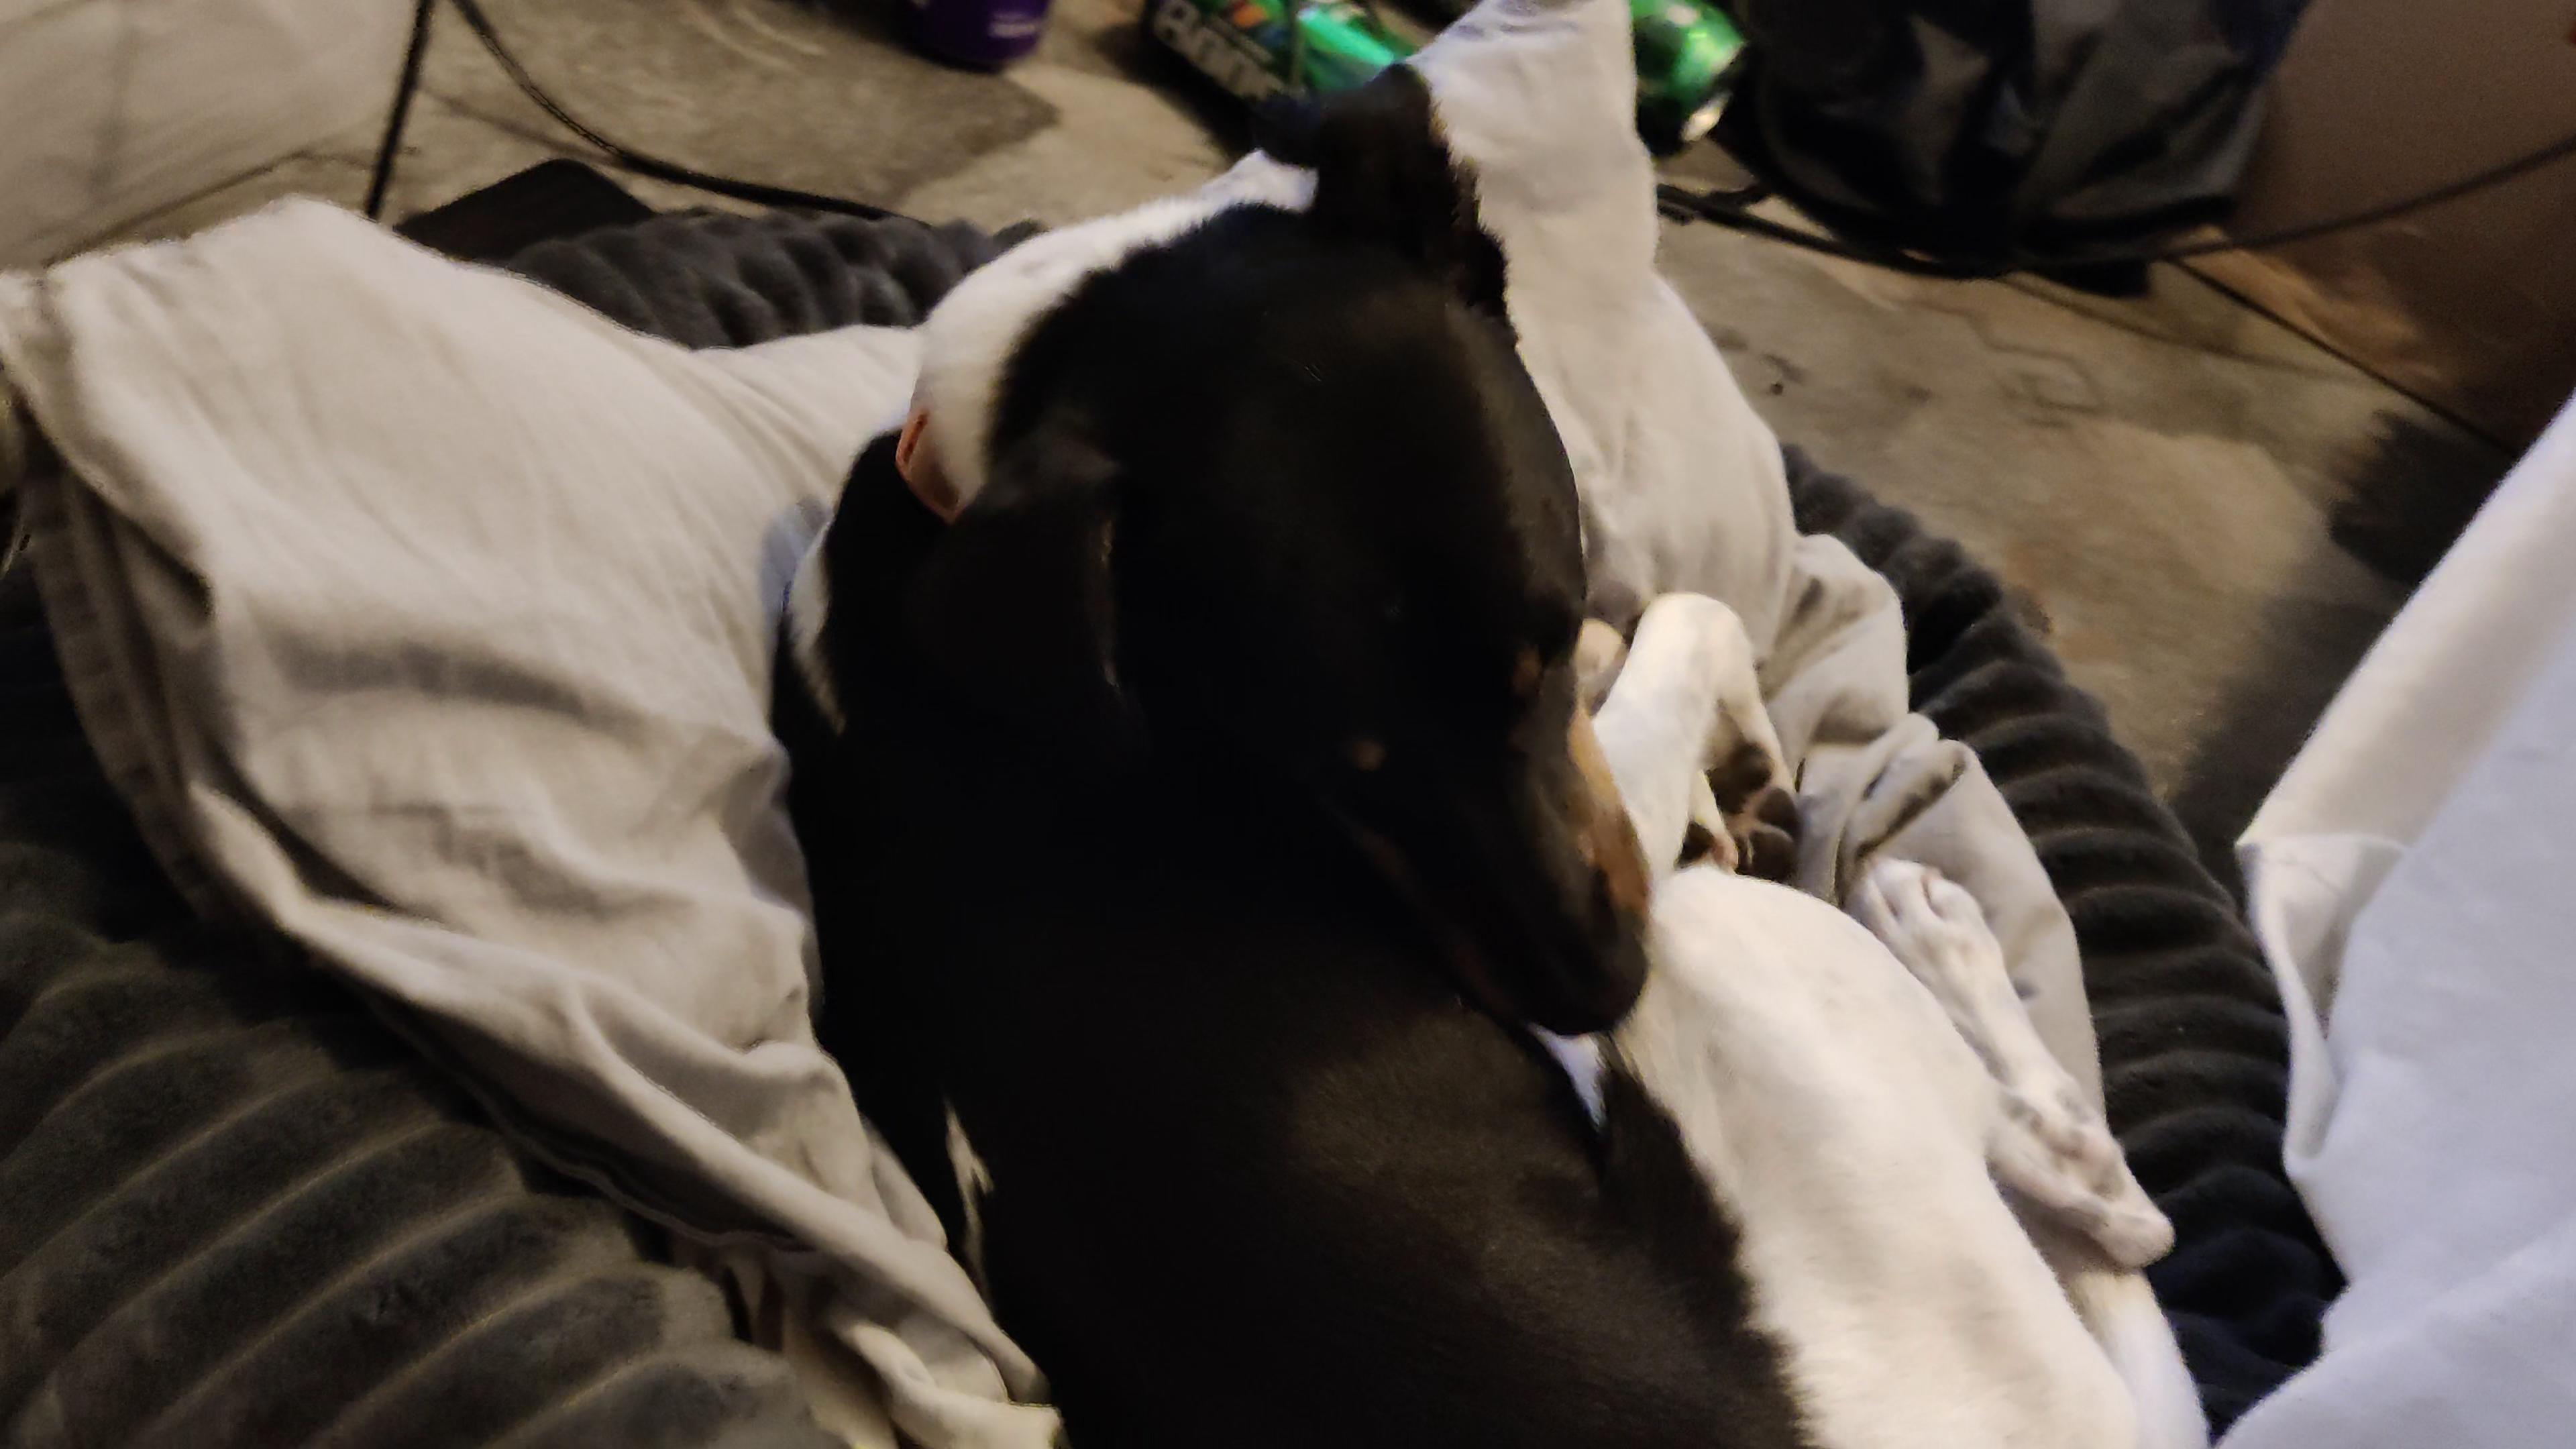Dog: (731, 50, 2226, 1449)
